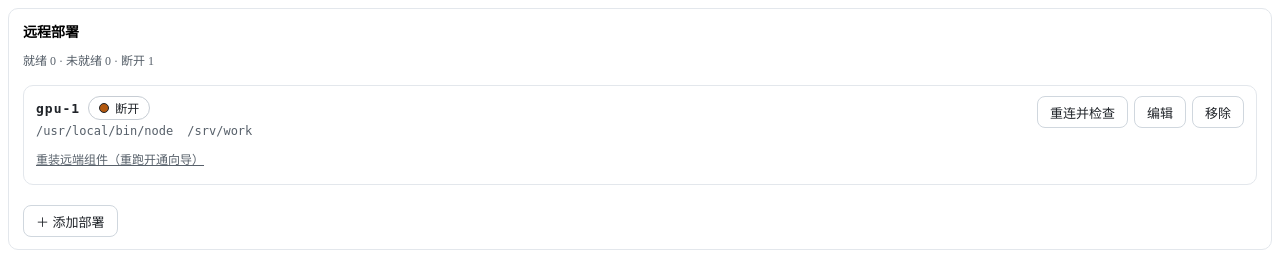
Test: 断开重连反馈闭环 + 重装入口 › 复核恢复 → 徽章翻「就绪」，无附加行；重连钮消失
Click the button with test id "deploy-reconnect" at (1082, 112), box [1037,96,1128,128]
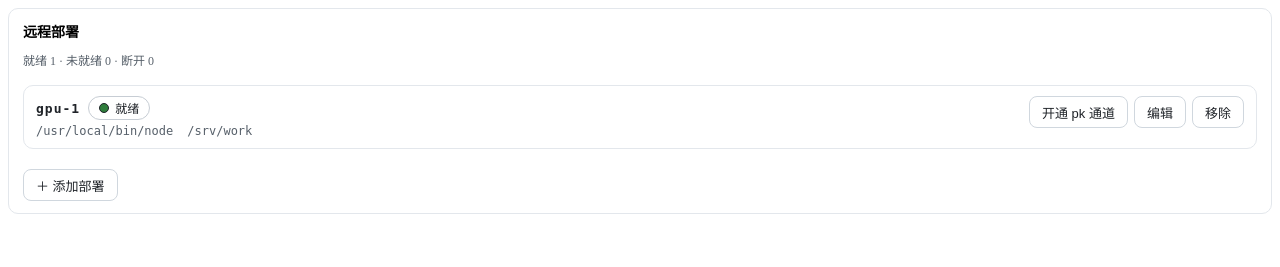
Expected: the text "就绪" is shown, [88,96,150,120]
